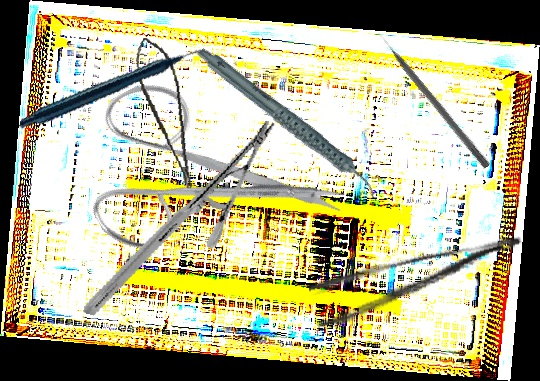Dressing Forceps: (307, 232, 531, 331)
Handpiece: (195, 18, 379, 230), (18, 10, 213, 169)
Iris Scissors: (50, 22, 353, 314)
Micro Scissor: (130, 33, 198, 194)
Needle Holder: (82, 87, 277, 349)
Pusher: (375, 28, 492, 170)
